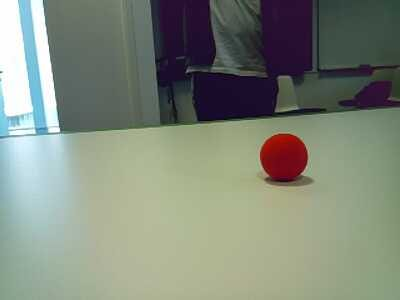bola_cerca: (258, 129, 307, 189)
